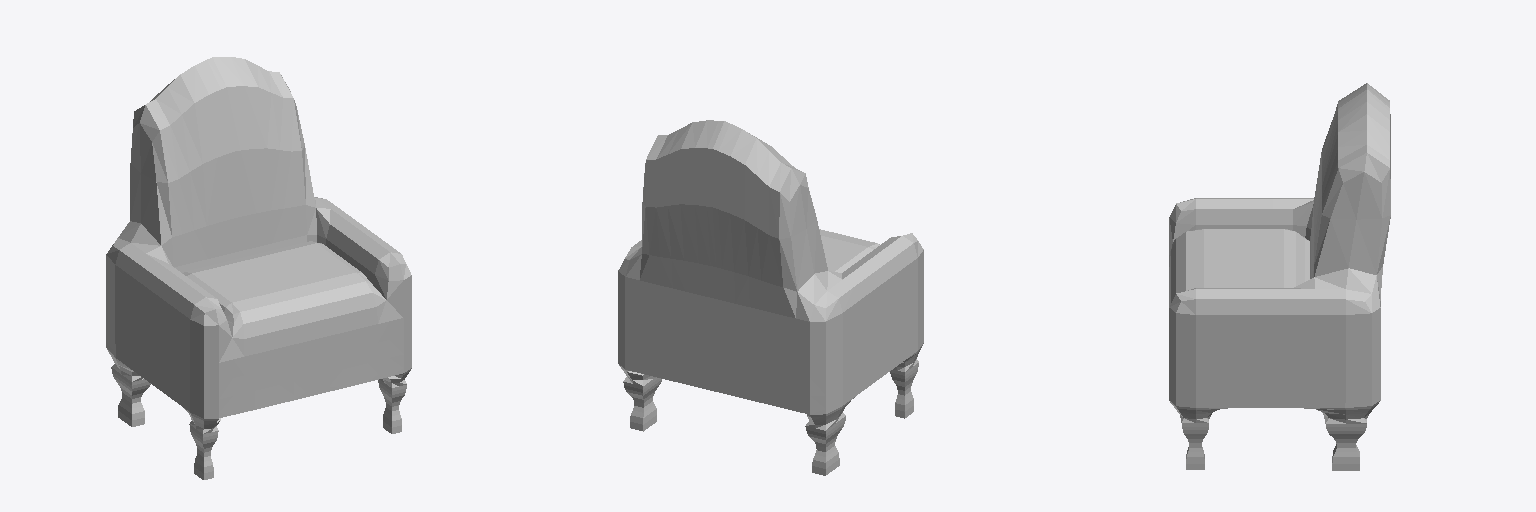
Rendered from big_chair.obj.
The picture shows the model from 3 angles: view 1: azimuth 30°, elevation 25°; view 2: azimuth 150°, elevation 25°; view 3: azimuth 270°, elevation 25°; orthographic projection.
Parts seen in each view (by area): view 1: pCube8 pCube7SmoothProxyGroup; view 2: pCube8 pCube7SmoothProxyGroup; view 3: pCube8 pCube7SmoothProxyGroup.
Part boxes in pixels (left/top/right/bottom): pCube8 pCube7SmoothProxyGroup: left=106, top=57, right=411, bottom=479; pCube8 pCube7SmoothProxyGroup: left=618, top=120, right=923, bottom=475; pCube8 pCube7SmoothProxyGroup: left=1169, top=83, right=1390, bottom=470.
Bounding box in the file's own units: 4.86 × 7.19 × 4.34.